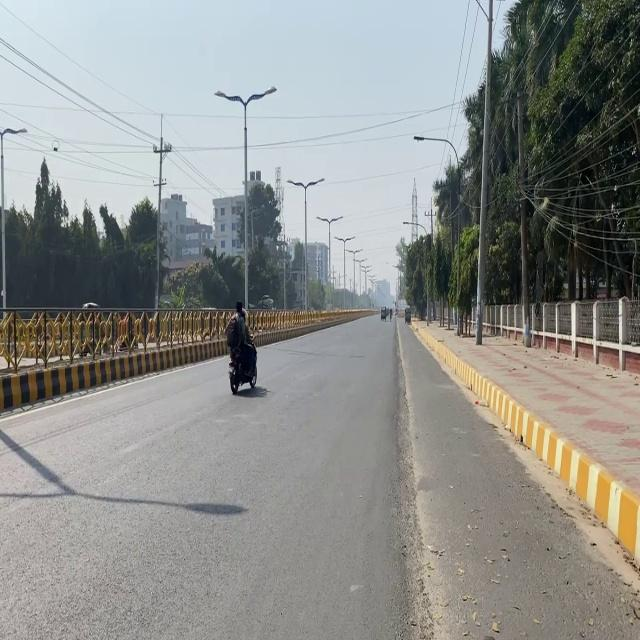Construction-barrier: (518, 402, 640, 574), (393, 313, 435, 638)
Fallen-tree: (227, 334, 257, 394)
Garbage-bin: (225, 302, 256, 382)
Light-pole: (474, 0, 494, 344), (515, 91, 532, 346)
Pole: (10, 302, 216, 414)
Pothole: (396, 315, 639, 638)
